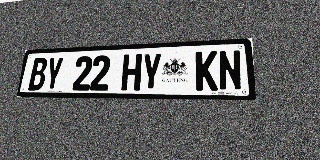2: (90, 55, 111, 90), (72, 56, 93, 90)
B: (28, 57, 48, 90)
H: (121, 54, 142, 91)
K: (195, 51, 218, 91)
N: (218, 50, 243, 91)
Y: (141, 53, 162, 91), (43, 57, 64, 90)
